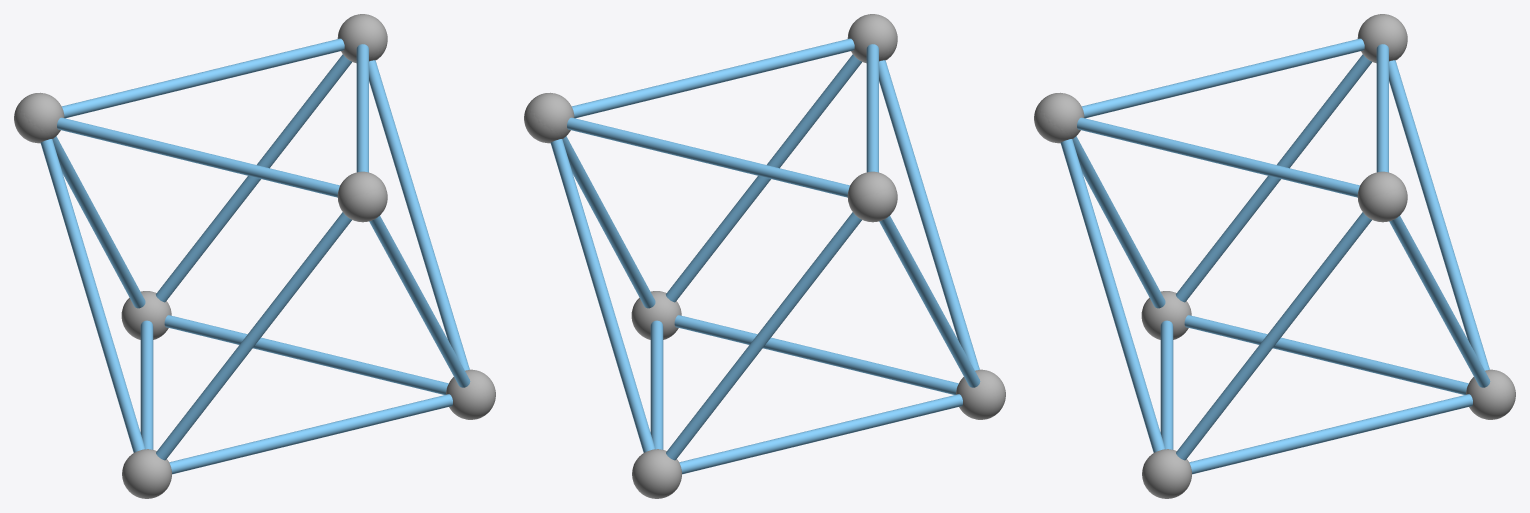
File: octahedron.glb
3 views of the same model, side by side, from view 1: azimuth 30°, elevation 25°; view 2: azimuth 150°, elevation 25°; view 3: azimuth 270°, elevation 25° (orthographic).
Size of the model in its own units: 6.12 by 5.14 by 6.96.
